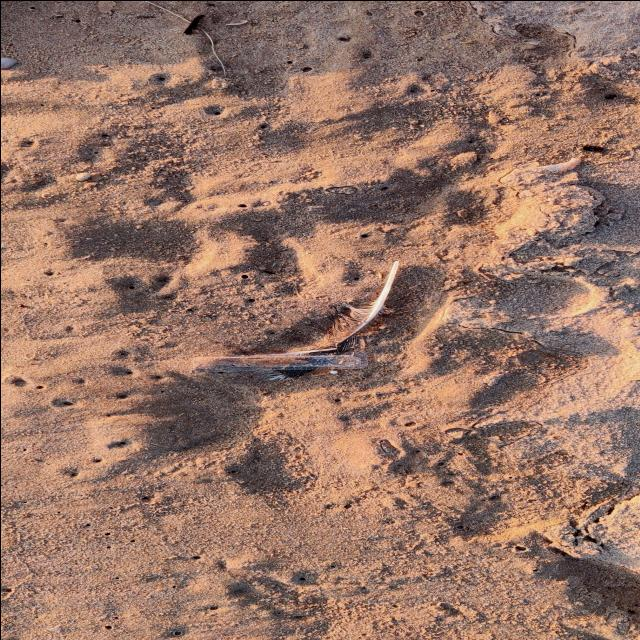Plastic film: (191, 351, 366, 371)
